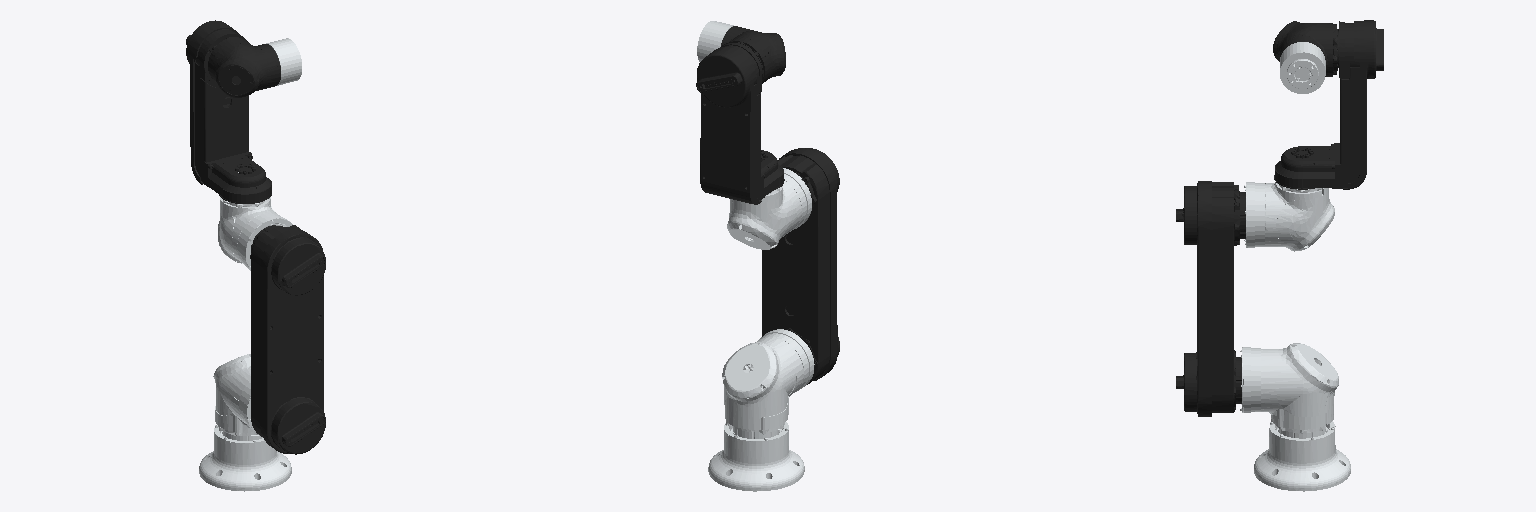
robot.urdf — owl_robot:
<?xml version="1.0" ?>
<!-- =================================================================================== -->
<!-- |    This document was autogenerated by xacro from [local-path]/orangewood_ws/src/orangewood_simstack/owl/owl_description/urdf/6.5/robot.xacro | -->
<!-- |    EDITING THIS FILE BY HAND IS NOT RECOMMENDED                                 | -->
<!-- =================================================================================== -->
<robot name="owl_robot">
    <!-- Macro of OWL 6.5 without any end effector -->
    <link name="world" />
    <joint name="virtual_joint" type="fixed">
        <origin rpy="0 0 0" xyz="0.0 0.0 0.0" />
        <parent link="world" />
        <child link="base_link" />
    </joint>
    <link name="base_link">
        <inertial>
            <origin rpy="0 0 0" xyz="2.7395E-05 -0.01813 4.3722E-05" />
            <mass value="2.39" />
            <inertia ixx="0.0060063" ixy="-2.5541E-15" ixz="-2.5603E-07" iyy="0.0095451" iyz="5.1619E-15" izz="0.006006" />
        </inertial>
        <visual>
            <origin rpy="0 0 0" xyz="0 0 0" />
            <geometry>
                <mesh filename="package://owl_description/meshes/6.5/visual/owl_robot/base_link.stl" />
            </geometry>
            <material name="">
                <color rgba="0.89804 0.91765 0.92941 1" />
            </material>
        </visual>
        <collision>
            <origin rpy="0 0 0" xyz="0 0 0" />
            <geometry>
                <mesh filename="package://owl_description/meshes/6.5/collision/owl_robot/base_link.stl" />
            </geometry>
        </collision>
    </link>
    <link name="shoulder_link">
        <inertial>
            <origin rpy="0 0 0" xyz="0.00042134 0.034391 -0.10382" />
            <mass value="4.613" />
            <inertia ixx="0.0035279" ixy="-5.6452E-06" ixz="-9.4882E-07" iyy="0.0046955" iyz="0.00045199" izz="0.0048177" />
        </inertial>
        <visual>
            <origin rpy="0 0 0" xyz="0 0 0" />
            <geometry>
                <mesh filename="package://owl_description/meshes/6.5/visual/owl_robot/shoulder_link.stl" />
            </geometry>
            <material name="">
                <color rgba="0.89804 0.91765 0.92941 1" />
            </material>
        </visual>
        <collision>
            <origin rpy="0 0 0" xyz="0 0 0" />
            <geometry>
                <mesh filename="package://owl_description/meshes/6.5/collision/owl_robot/shoulder_link.stl" />
            </geometry>
        </collision>
    </link>
    <joint name="BJ" type="revolute">
        <origin rpy="-3.1416 0 0" xyz="0 0 0" />
        <parent link="base_link" />
        <child link="shoulder_link" />
        <axis xyz="0 0 1" />
        <limit effort="500" lower="-3.14" upper="3.14" velocity="50" />
    </joint>
    <link name="link1">
        <inertial>
            <origin rpy="0 0 0" xyz=" 0.17795 0.00011012 -0.085428" />
            <mass value="9.431" />
            <inertia ixx="0.0052455" ixy="1.4977E-05" ixz="2.6778E-05" iyy="0.028778" iyz="-3.8624E-06" izz="0.032177" />
        </inertial>
        <visual>
            <origin rpy="0 0 0" xyz="0 0 0" />
            <geometry>
                <mesh filename="package://owl_description/meshes/6.5/visual/owl_robot/link1.stl" />
            </geometry>
            <material name="">
                <color rgba="0.2 0.2 0.2 1.0" />
            </material>
        </visual>
        <collision>
            <origin rpy="0 0 0" xyz="0 0 0" />
            <geometry>
                <mesh filename="package://owl_description/meshes/6.5/collision/owl_robot/link1.stl" />
            </geometry>
        </collision>
    </link>
    <joint name="SJ" type="revolute">
        <origin rpy="0.58944 1.5675 -0.983" xyz="0.00018339 0.066603 -0.1405" />
        <parent link="shoulder_link" />
        <child link="link1" />
        <axis xyz="0.0027142 -0.0011243 1" />
        <limit effort="500" lower="-1.6" upper="1.6" velocity="50" />
    </joint>
    <link name="elbow_link">
        <inertial>
            <origin rpy="0 0 0" xyz="0.00023616 -0.028792 -0.029823" />
            <mass value="4.613" />
            <inertia ixx="0.0023499" ixy="-2.7675E-06" ixz="-4.1087E-07" iyy="0.0030181" iyz="-0.00026183" izz="0.0035661" />
        </inertial>
        <visual>
            <origin rpy="0 0 0" xyz="0 0 0" />
            <geometry>
                <mesh filename="package://owl_description/meshes/6.5/visual/owl_robot/elbow_link.stl" />
            </geometry>
            <material name="">
                <color rgba="0.89804 0.91765 0.92941 1" />
            </material>
        </visual>
        <collision>
            <origin rpy="0 0 0" xyz="0 0 0" />
            <geometry>
                <mesh filename="package://owl_description/meshes/6.5/collision/owl_robot/elbow_link.stl" />
            </geometry>
        </collision>
    </link>
    <joint name="EJ" type="revolute">
        <origin rpy="3.1389 -0.0018334 -1.5781" xyz="0.35575 0 -0.00096557" />
        <parent link="link1" />
        <child link="elbow_link" />
        <axis xyz="0 0 1" />
        <limit effort="500" lower="-2.8" upper="3.14" velocity="50" />
    </joint>
    <link name="link2">
        <inertial>
            <origin rpy="0 0 0" xyz="0.00015054 -0.075078 0.13834" />
            <mass value="2.4407" />
            <inertia ixx="0.009134" ixy="-3.9978E-06" ixz="-4.8015E-06" iyy="0.010823" iyz="0.00068065" izz="0.0041094" />
        </inertial>
        <visual>
            <origin rpy="0 0 0" xyz="0 0 0" />
            <geometry>
                <mesh filename="package://owl_description/meshes/6.5/visual/owl_robot/link2.stl" />
            </geometry>
            <material name="">
                <color rgba="0.2 0.2 0.2 1.0" />
            </material>
        </visual>
        <collision>
            <origin rpy="0 0 0" xyz="0 0 0" />
            <geometry>
                <mesh filename="package://owl_description/meshes/6.5/collision/owl_robot/link2.stl" />
            </geometry>
        </collision>
    </link>
    <joint name="W1J" type="revolute">
        <origin rpy="1.5708 -0.0023608 0" xyz="0.00019567 -0.079361 -0.066603" />
        <parent link="elbow_link" />
        <child link="link2" />
        <axis xyz="0 0 -1" />
        <limit effort="500" lower="-2.84489" upper="2.84489" velocity="50" />
    </joint>
    <link name="w2w3_link">
        <inertial>
            <origin rpy="0 0 0" xyz="0.00025923 0.029764 0.027271" />
            <mass value="3.118" />
            <inertia ixx="0.0014884" ixy="2.1526E-06" ixz="6.6731E-06" iyy="0.0016882" iyz="0.0001816" izz="0.0019291" />
        </inertial>
        <visual>
            <origin rpy="0 0 0" xyz="0 0 0" />
            <geometry>
                <mesh filename="package://owl_description/meshes/6.5/visual/owl_robot/w2w3_link.stl" />
            </geometry>
            <material name="">
                <color rgba="0.2 0.2 0.2 1.0" />
            </material>
        </visual>
        <collision>
            <origin rpy="0 0 0" xyz="0 0 0" />
            <geometry>
                <mesh filename="package://owl_description/meshes/6.5/collision/owl_robot/w2w3_link.stl" />
            </geometry>
        </collision>
    </link>
    <joint name="W2J" type="revolute">
        <origin rpy="2.745 -1.5667 -1.1726" xyz="0 0 0.27639" />
        <parent link="link2" />
        <child link="w2w3_link" />
        <axis xyz="0.0037507 -0.00083382 0.99999" />
        <limit effort="500" lower="-1.6" upper="0.78" velocity="50" />
        <safety_controller k_position="100" k_velocity="1.5" soft_lower_limit="-1.857" soft_upper_limit="0.8" />
    </joint>
    <link name="end_effector_link">
        <inertial>
            <origin rpy="0 0 0" xyz="2.2451E-05 -0.00060487 0.098537" />
            <mass value="0.188" />
            <inertia ixx="0.00017935" ixy="-3.2299E-08" ixz="-2.1374E-07" iyy="0.00017907" iyz="-4.545E-07" izz="0.00025742" />
        </inertial>
        <visual>
            <origin rpy="0 0 0" xyz="0 0 0" />
            <geometry>
                <mesh filename="package://owl_description/meshes/6.5/visual/owl_robot/end_effector_link.stl" />
            </geometry>
            <material name="">
                <color rgba="0.89804 0.91765 0.92941 1" />
            </material>
        </visual>
        <collision>
            <origin rpy="0 0 0" xyz="0 0 0" />
            <geometry>
                <mesh filename="package://owl_description/meshes/6.5/collision/owl_robot/end_effector_link.stl" />
            </geometry>
        </collision>
    </link>
    <joint name="W3J" type="revolute">
        <origin rpy="-1.2578 -1.5668 -0.31786" xyz="0 0 0" />
        <limit effort="500" lower="-3.1" upper="3.1" velocity="50" />
        <parent link="w2w3_link" />
        <child link="end_effector_link" />
        <axis xyz="0 0 1" />
    </joint>
    <link name="tcp">
        <inertial>
            <origin rpy="0 0 0" xyz="0 0 0" />
            <mass value="1e-9" />
            <inertia ixx="0" ixy="0" ixz="0" iyy="0" iyz="0" izz="0" />
        </inertial>
    </link>
    <joint name="tcp_frame" type="fixed">
        <origin rpy="5.94633e-15 -1.33504e-14 -1.5708" xyz="4.33681e-19 0 0.1225" />
        <parent link="end_effector_link" />
        <child link="tcp" />
        <axis xyz="0 0 0" />
    </joint>
    <transmission name="trans_BJ">
        <type>transmission_interface/SimpleTransmission</type>
        <joint name="BJ">
            <hardwareInterface>hardware_interface/PositionJointInterface</hardwareInterface>
        </joint>
        <actuator name="BJ_motor">
            <hardwareInterface>hardware_interface/PositionJointInterface</hardwareInterface>
            <mechanicalReduction>1</mechanicalReduction>
        </actuator>
    </transmission>
    <transmission name="trans_SJ">
        <type>transmission_interface/SimpleTransmission</type>
        <joint name="SJ">
            <hardwareInterface>hardware_interface/PositionJointInterface</hardwareInterface>
        </joint>
        <actuator name="SJ_motor">
            <hardwareInterface>hardware_interface/PositionJointInterface</hardwareInterface>
            <mechanicalReduction>1</mechanicalReduction>
        </actuator>
    </transmission>
    <transmission name="trans_EJ">
        <type>transmission_interface/SimpleTransmission</type>
        <joint name="EJ">
            <hardwareInterface>hardware_interface/PositionJointInterface</hardwareInterface>
        </joint>
        <actuator name="EJ_motor">
            <hardwareInterface>hardware_interface/PositionJointInterface</hardwareInterface>
            <mechanicalReduction>1</mechanicalReduction>
        </actuator>
    </transmission>
    <transmission name="trans_W1J">
        <type>transmission_interface/SimpleTransmission</type>
        <joint name="W1J">
            <hardwareInterface>hardware_interface/PositionJointInterface</hardwareInterface>
        </joint>
        <actuator name="W1J_motor">
            <hardwareInterface>hardware_interface/PositionJointInterface</hardwareInterface>
            <mechanicalReduction>1</mechanicalReduction>
        </actuator>
    </transmission>
    <transmission name="trans_W2J">
        <type>transmission_interface/SimpleTransmission</type>
        <joint name="W2J">
            <hardwareInterface>hardware_interface/PositionJointInterface</hardwareInterface>
        </joint>
        <actuator name="W2J_motor">
            <hardwareInterface>hardware_interface/PositionJointInterface</hardwareInterface>
            <mechanicalReduction>1</mechanicalReduction>
        </actuator>
    </transmission>
    <transmission name="trans_W3J">
        <type>transmission_interface/SimpleTransmission</type>
        <joint name="W3J">
            <hardwareInterface>hardware_interface/PositionJointInterface</hardwareInterface>
        </joint>
        <actuator name="W3J_motor">
            <hardwareInterface>hardware_interface/PositionJointInterface</hardwareInterface>
            <mechanicalReduction>1</mechanicalReduction>
        </actuator>
    </transmission>
    <gazebo>
        <plugin name="gazebo_ros_control" filename="libgazebo_ros_control.so">
            <robotNamespace>/</robotNamespace>
        </plugin>
    </gazebo>
</robot>

--- What the picture shows (computed from the rendered views, not written in the file) ---
Views: 3 orthographic renders of the robot side by side, from view 1: azimuth 30°, elevation 25°; view 2: azimuth 150°, elevation 25°; view 3: azimuth 270°, elevation 25°.
Robot: owl_robot — 9 links, 8 joints (6 revolute, 2 fixed); root link world; default pose: all joints at 0.
Visible links, largest first — view 1: link1, link2, base_link, w2w3_link, shoulder_link, elbow_link, end_effector_link; view 2: link1, link2, shoulder_link, base_link, elbow_link, w2w3_link, end_effector_link; view 3: link1, link2, shoulder_link, elbow_link, base_link, end_effector_link, w2w3_link.
Boxes of the visible links, bbox=[...] form: link1: bbox=[250, 225, 325, 454]; link2: bbox=[186, 20, 271, 203]; base_link: bbox=[199, 425, 291, 491]; w2w3_link: bbox=[208, 37, 280, 97]; shoulder_link: bbox=[213, 354, 262, 440]; elbow_link: bbox=[218, 172, 292, 270]; end_effector_link: bbox=[266, 38, 301, 85]; link1: bbox=[762, 148, 839, 384]; link2: bbox=[696, 42, 784, 204]; shoulder_link: bbox=[722, 329, 814, 438]; base_link: bbox=[708, 422, 804, 491]; elbow_link: bbox=[727, 168, 811, 249]; w2w3_link: bbox=[721, 26, 785, 83]; end_effector_link: bbox=[697, 21, 733, 61]; link1: bbox=[1176, 181, 1245, 416]; link2: bbox=[1274, 20, 1383, 189]; shoulder_link: bbox=[1240, 343, 1338, 438]; elbow_link: bbox=[1244, 182, 1334, 251]; base_link: bbox=[1254, 421, 1350, 491]; end_effector_link: bbox=[1280, 42, 1325, 93]; w2w3_link: bbox=[1273, 21, 1338, 76].
Size in the robot's own frame: 0.2109 by 0.4074 by 0.964 metres.
7 mesh visuals loaded from 7 distinct referenced files (7 binary STL).
